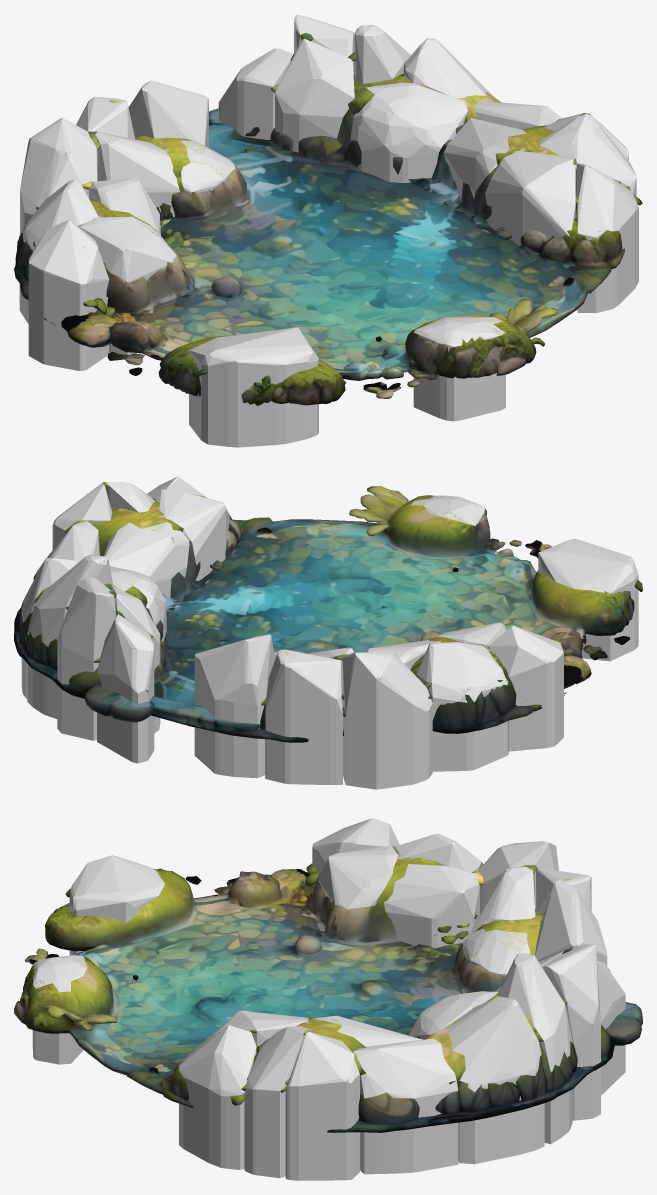
File: stream_pool.glb
The picture shows the model from 3 angles, top to bottom: view 1: azimuth 30°, elevation 25°; view 2: azimuth 150°, elevation 25°; view 3: azimuth 270°, elevation 25°; orthographic projection. The views are drawn at different scales.
Visible parts, largest first — view 1: StreamPool, COL_pool_rock_21, COL_pool_rock_4, COL_pool_rock_14, COL_pool_rock_18, COL_pool_rock_9, COL_pool_rock_11, COL_pool_rock_22, COL_pool_rock_0, COL_pool_rock_3, COL_pool_rock_17, COL_pool_rock_1 (+11 smaller); view 2: StreamPool, COL_pool_rock_0, COL_pool_rock_7, COL_pool_rock_1, COL_pool_rock_6, COL_pool_rock_4, COL_pool_rock_17, COL_pool_rock_16, COL_pool_rock_21, COL_pool_rock_15, COL_pool_rock_10, COL_pool_rock_18 (+10 smaller); view 3: StreamPool, COL_pool_rock_19, COL_pool_rock_20, COL_pool_rock_13, COL_pool_rock_11, COL_pool_rock_5, COL_pool_rock_12, COL_pool_rock_16, COL_pool_rock_15, COL_pool_rock_21, COL_pool_rock_3, COL_pool_rock_1 (+11 smaller).
Part boxes in pixels (x1,y1,x2,y2): StreamPool: (14,15,642,405); COL_pool_rock_21: (189,327,318,447); COL_pool_rock_4: (28,219,109,370); COL_pool_rock_14: (350,82,467,183); COL_pool_rock_18: (485,150,575,245); COL_pool_rock_9: (275,38,354,152); COL_pool_rock_11: (576,163,638,313); COL_pool_rock_22: (413,317,505,421); COL_pool_rock_0: (20,118,97,233); COL_pool_rock_3: (80,216,176,354); COL_pool_rock_17: (218,48,293,139); COL_pool_rock_1: (128,80,208,147); StreamPool: (14,482,642,742); COL_pool_rock_0: (342,652,432,789); COL_pool_rock_7: (265,649,342,784); COL_pool_rock_1: (194,634,275,778); COL_pool_rock_6: (416,642,508,771); COL_pool_rock_4: (488,625,563,751); COL_pool_rock_17: (97,614,154,763); COL_pool_rock_16: (57,577,115,740); COL_pool_rock_21: (538,539,638,661); COL_pool_rock_15: (27,554,113,718); COL_pool_rock_10: (104,522,189,597); COL_pool_rock_18: (159,489,229,580); StreamPool: (14,841,642,1132); COL_pool_rock_19: (448,996,544,1164); COL_pool_rock_20: (285,1032,359,1180); COL_pool_rock_13: (353,1038,458,1174); COL_pool_rock_11: (179,1025,256,1169); COL_pool_rock_5: (383,864,479,948); COL_pool_rock_12: (244,1026,314,1178); COL_pool_rock_16: (542,943,600,1120); COL_pool_rock_15: (497,953,572,1144); COL_pool_rock_21: (69,855,164,955); COL_pool_rock_3: (318,846,398,909); COL_pool_rock_1: (535,879,607,966).
Size of the model in its own units: 0.9927 by 0.2786 by 0.9995.
1 material, 1 textured.
